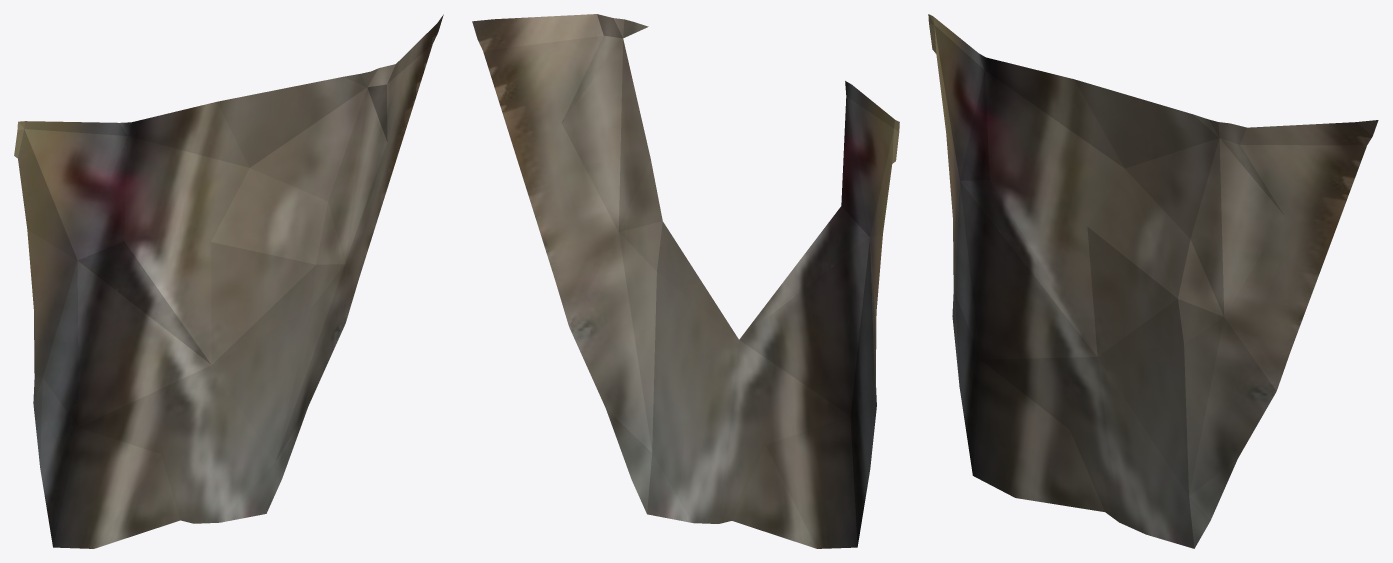
3 views of the same model, side by side, from view 1: azimuth 30°, elevation 25°; view 2: azimuth 150°, elevation 25°; view 3: azimuth 330°, elevation 25° (orthographic). The views are drawn at different scales.
Size of the model in its own units: 0.6944 by 0.7048 by 0.1138.
2 materials, 2 textured.
